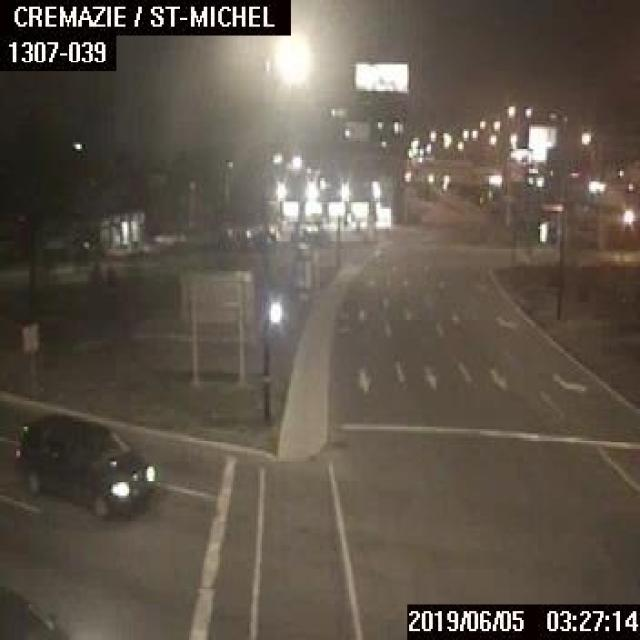vehicle: (15, 413, 155, 515), (0, 586, 65, 637)
